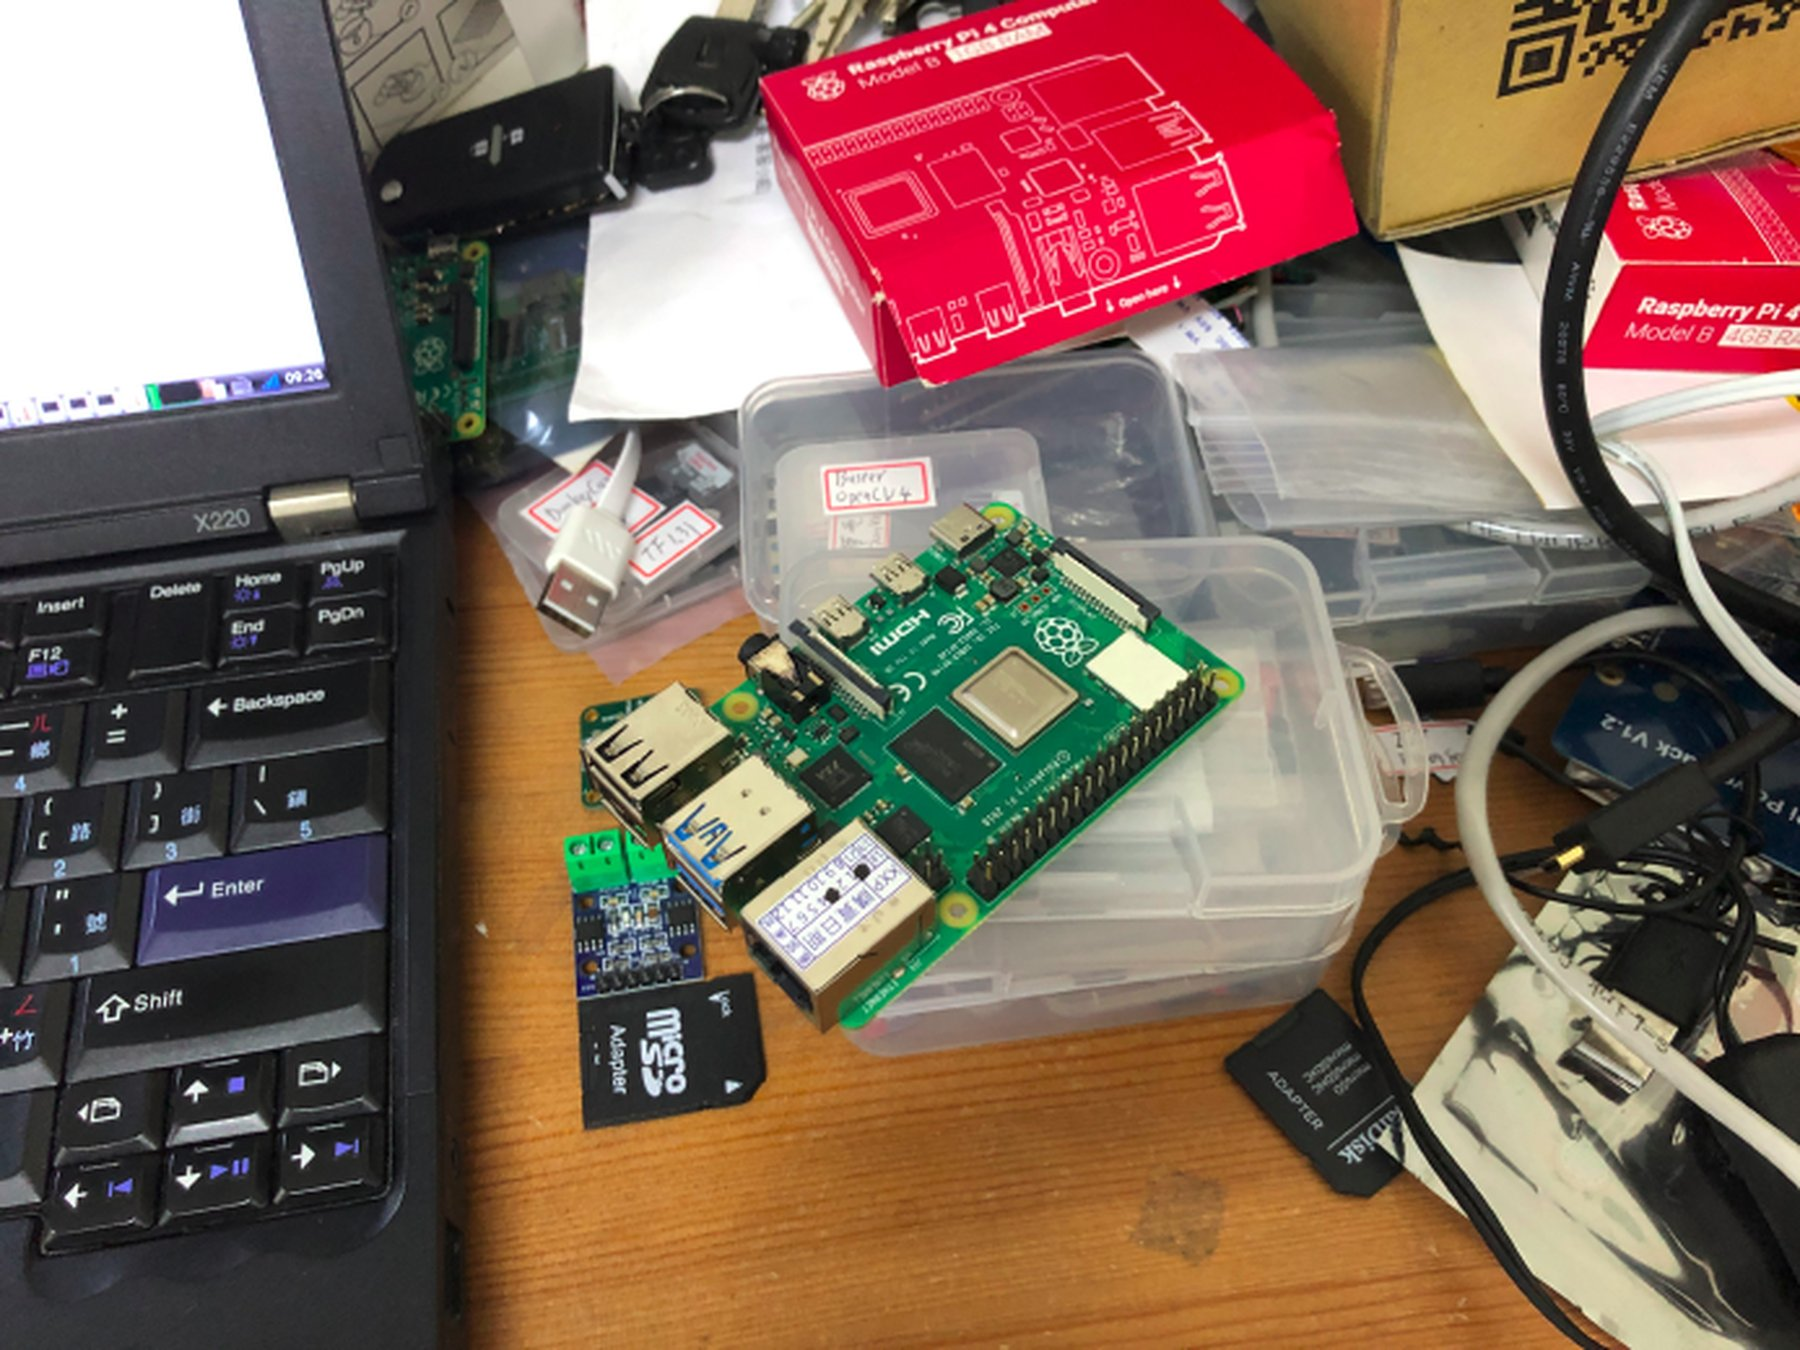pi: (567, 489, 1256, 1045)
